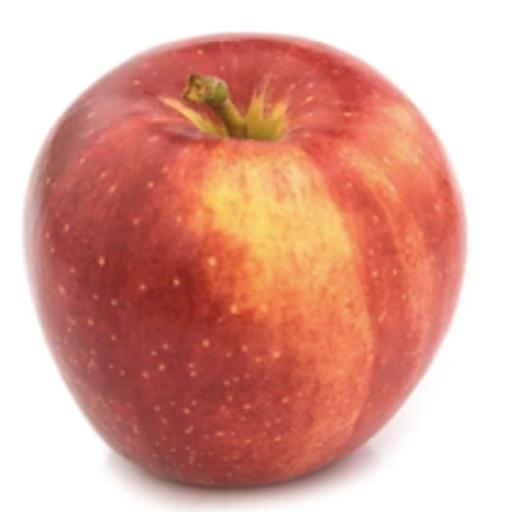apple: (26, 35, 464, 485)
